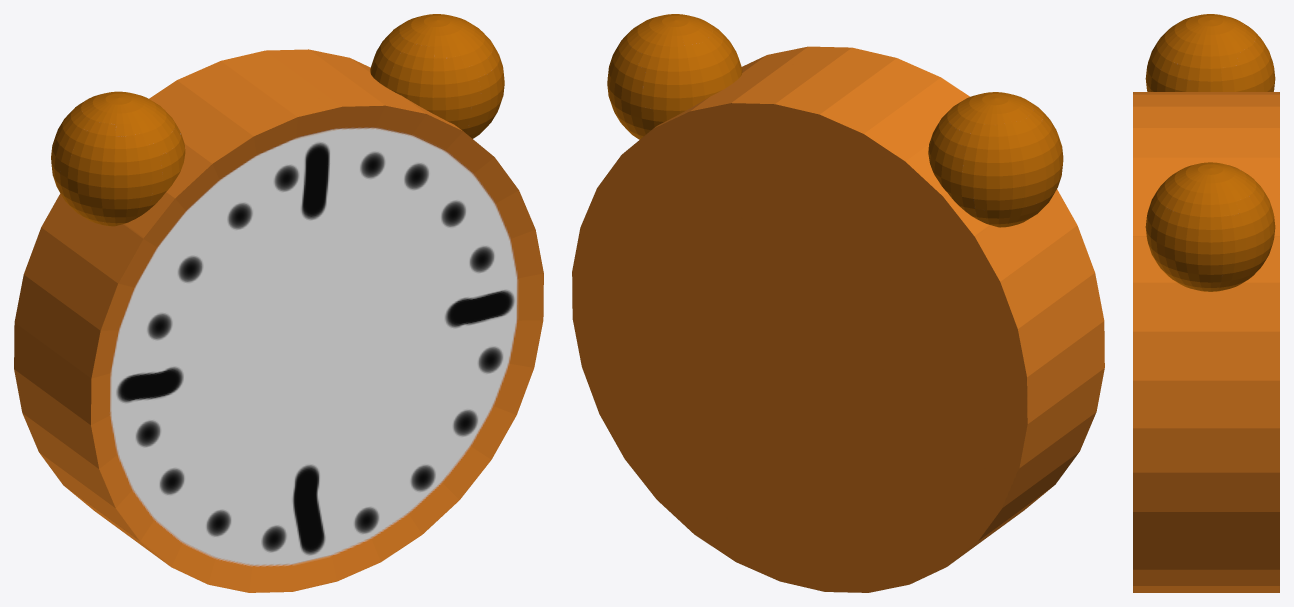
The model's file is horloge.glb.
3 renders of one model, left to right at view 1: azimuth 30°, elevation 25°; view 2: azimuth 150°, elevation 25°; view 3: azimuth 270°, elevation 25°, orthographic. The views are drawn at different scales.
Visible parts, largest first — view 1: Sphere; view 2: Sphere; view 3: Sphere.
Part boxes in pixels (x1,y1,x2,y2): Sphere: [14, 14, 543, 592]; Sphere: [572, 14, 1104, 592]; Sphere: [1133, 14, 1279, 592].
Bounding box in the file's own units: 1.99 × 2.09 × 0.5858.
Materials: 2 (2 with a texture image).
